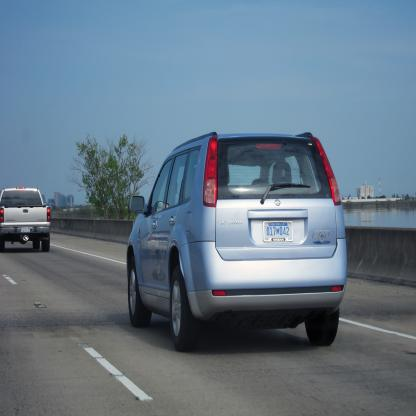Car: (128, 133, 349, 353), (1, 184, 52, 253)
